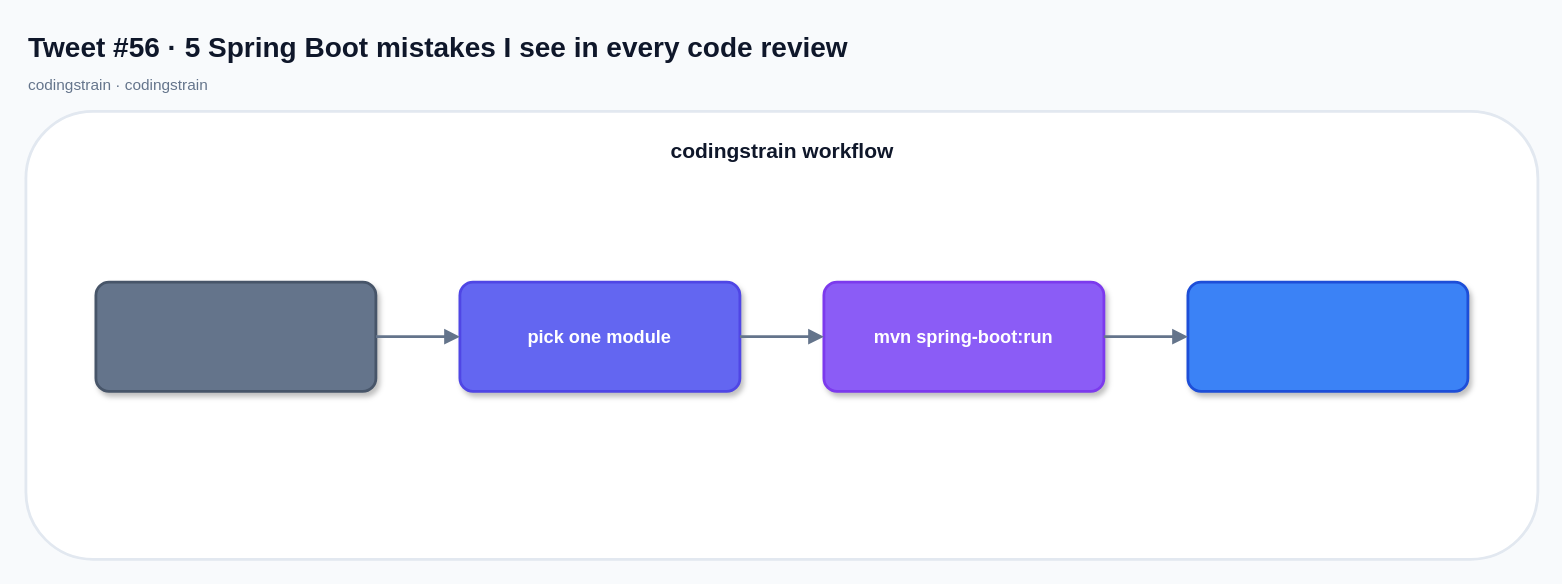
Some shapes in this 1562 by 584 pixel diagram are drawn without their labels. The shapes that lost their labels are listed below. From the top down, each one's centre as x and y in pixels, then its label:
point (236, 338): git clone
point (1328, 338): learn one concept
